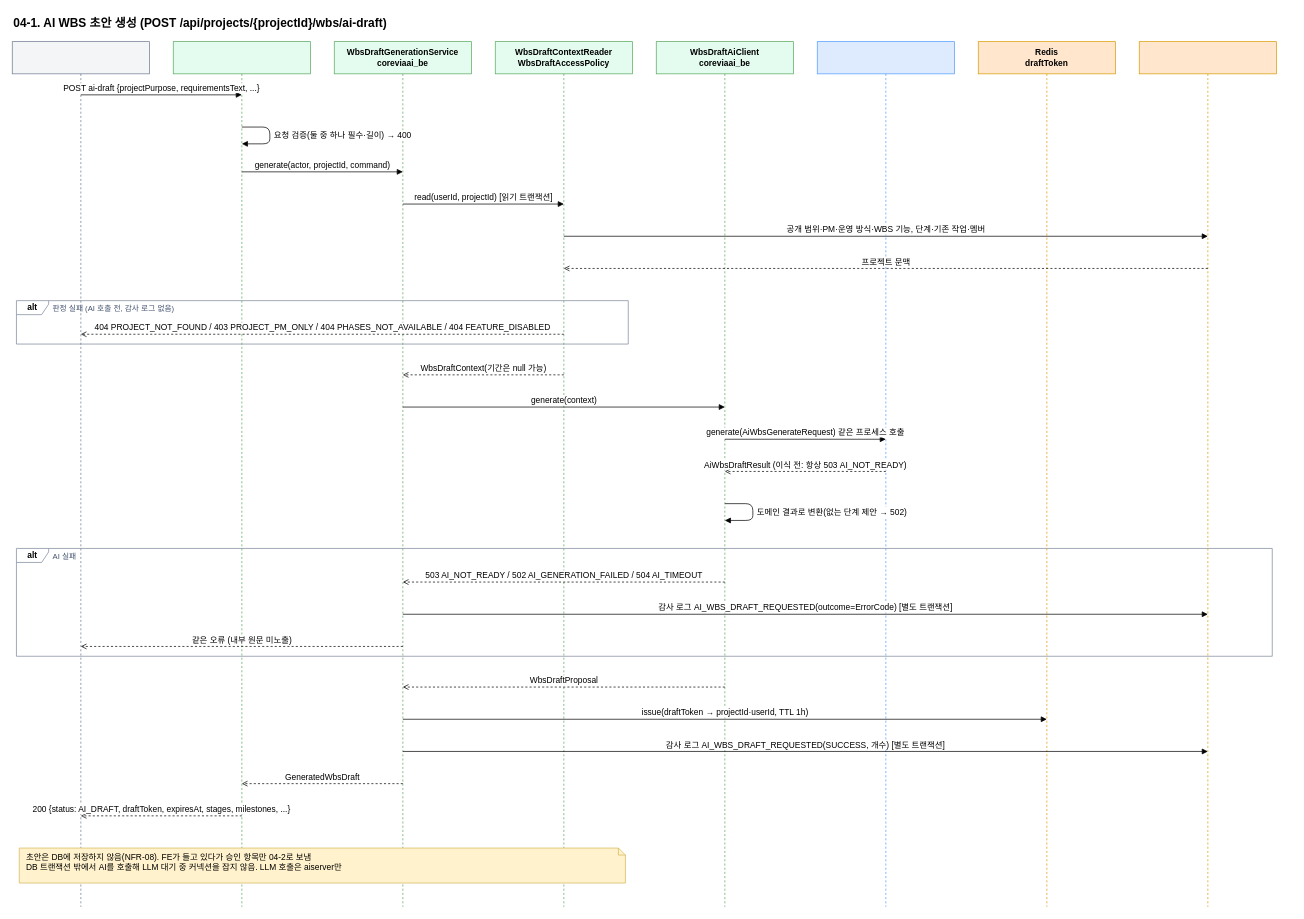
Image size: 1304x919. Some labels were removed from this diagram. The shapes that lost their labels are listed below. From the top down, each one's box as (x1, y1, x2, y2) in pixels, then its label:
(12, 41, 149, 907): FE PM 브라우저
(173, 41, 310, 907): WbsAiDraftController coreviaai_be
(817, 41, 954, 907): WbsDraftGenerator aiserver (api 계약)
(1139, 41, 1276, 907): PostgreSQL
